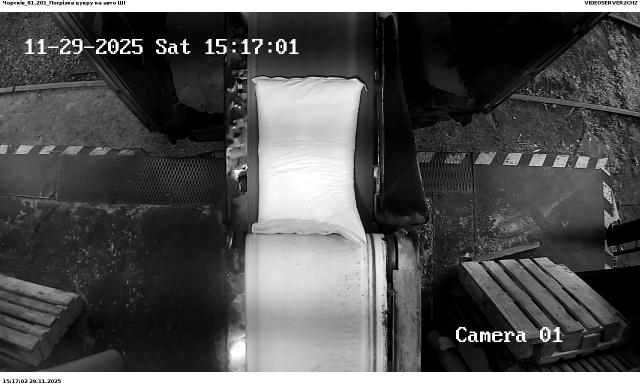bag: (253, 77, 368, 246)
